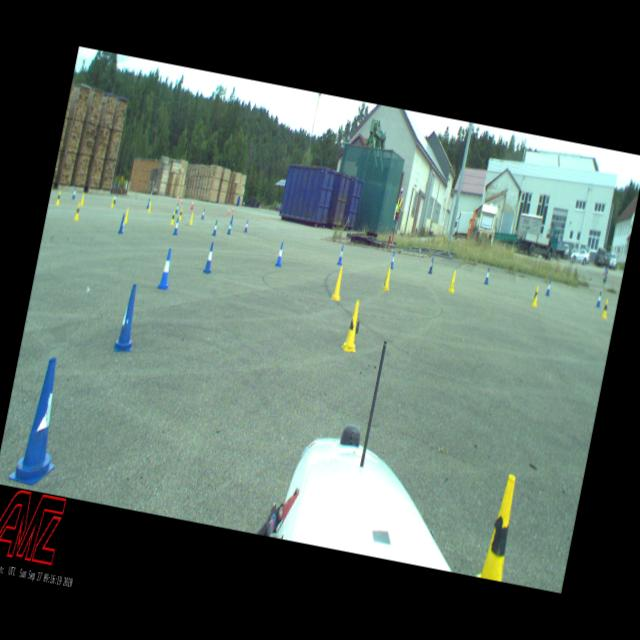blue_cone: (9, 353, 75, 487), (114, 283, 143, 354), (156, 248, 176, 290), (204, 242, 216, 273), (274, 242, 286, 267), (336, 245, 346, 265), (172, 214, 180, 237), (118, 214, 126, 234), (544, 280, 552, 296), (389, 250, 396, 268), (484, 267, 491, 285), (595, 291, 602, 308), (428, 258, 435, 274), (212, 221, 218, 236), (244, 220, 249, 232), (145, 198, 151, 208), (228, 220, 232, 234), (114, 192, 118, 204), (202, 209, 206, 220), (230, 216, 234, 227), (176, 202, 180, 212), (72, 188, 76, 198)
orange_cone: (190, 200, 194, 210), (180, 198, 183, 205), (227, 207, 230, 214), (232, 206, 234, 213)
yellow_cone: (472, 471, 522, 582), (341, 299, 365, 352), (332, 266, 346, 301), (382, 264, 393, 290), (448, 270, 458, 294), (531, 286, 541, 308), (600, 297, 610, 317), (74, 203, 82, 220), (170, 210, 177, 224), (124, 206, 130, 222), (147, 199, 153, 213), (178, 208, 184, 221), (56, 190, 61, 204), (80, 193, 85, 206), (189, 213, 194, 224), (111, 196, 116, 207)
